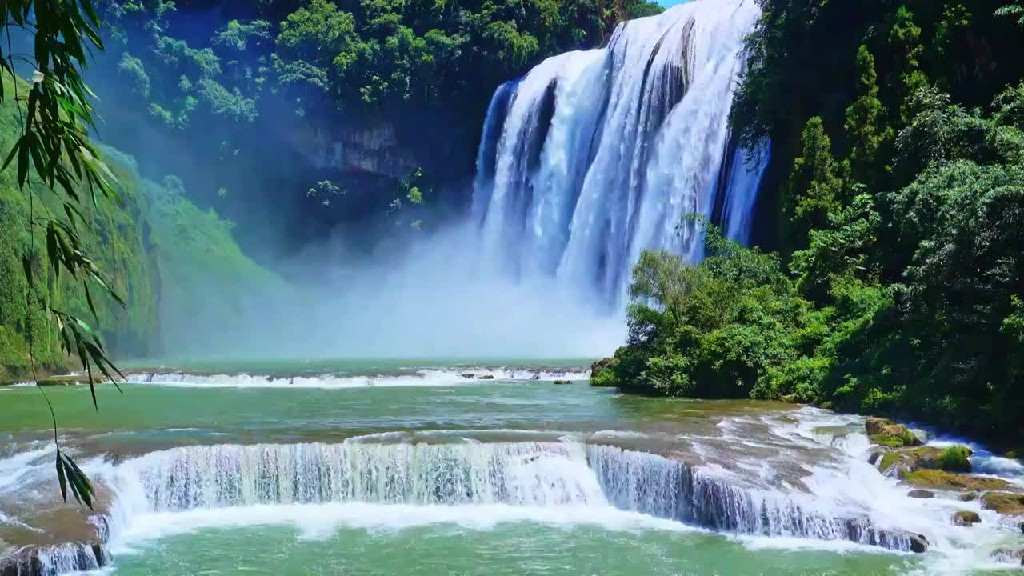Huangguoshu: (473, 1, 771, 341)
